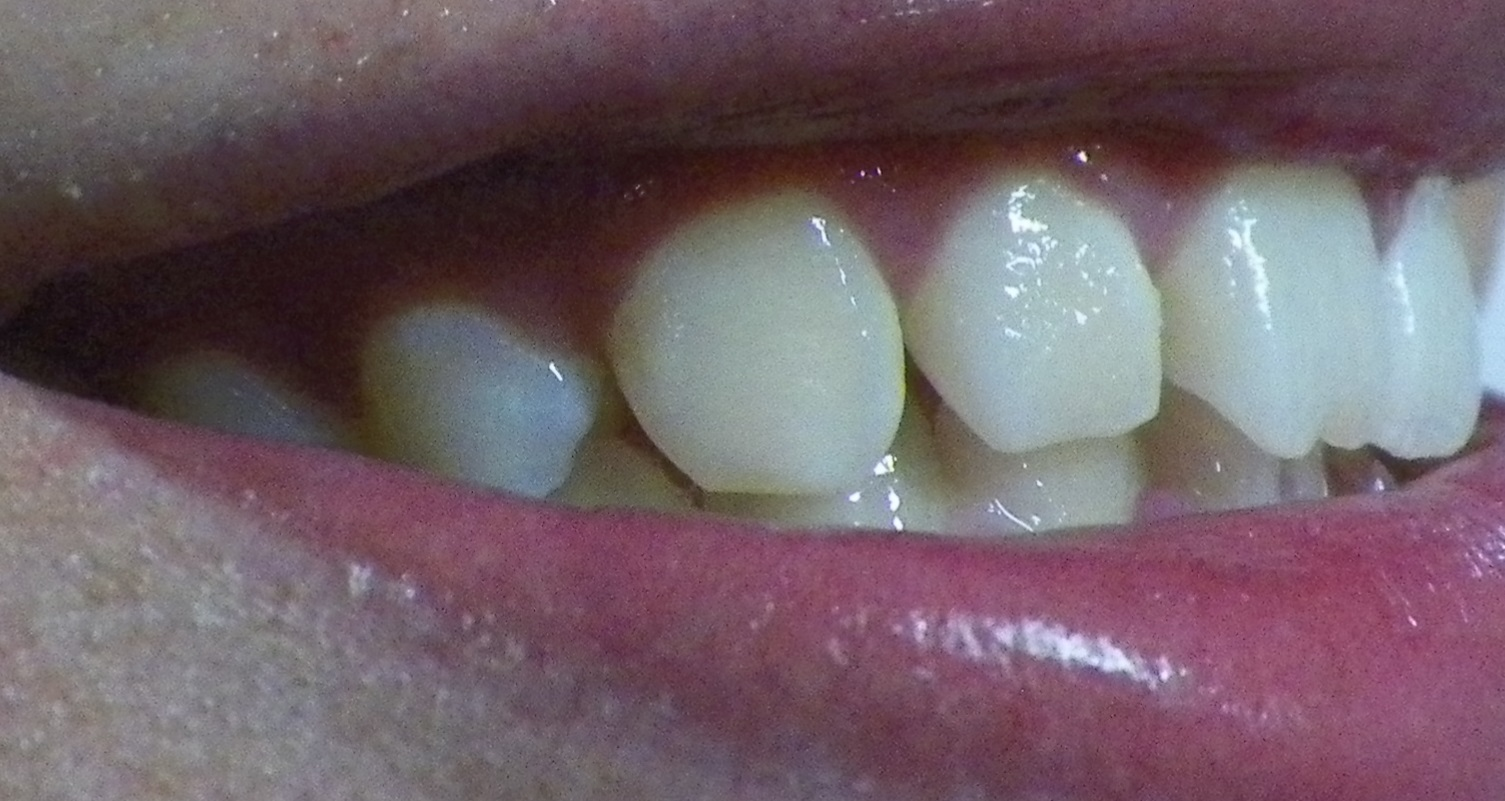boca: (175, 159, 1483, 533)
